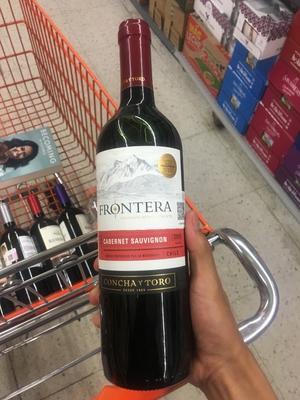frontera cabernet sauvignon: (88, 25, 193, 363)
